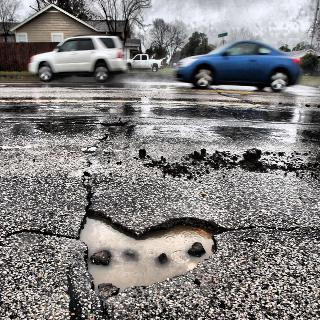pothole: (75, 201, 222, 296)
